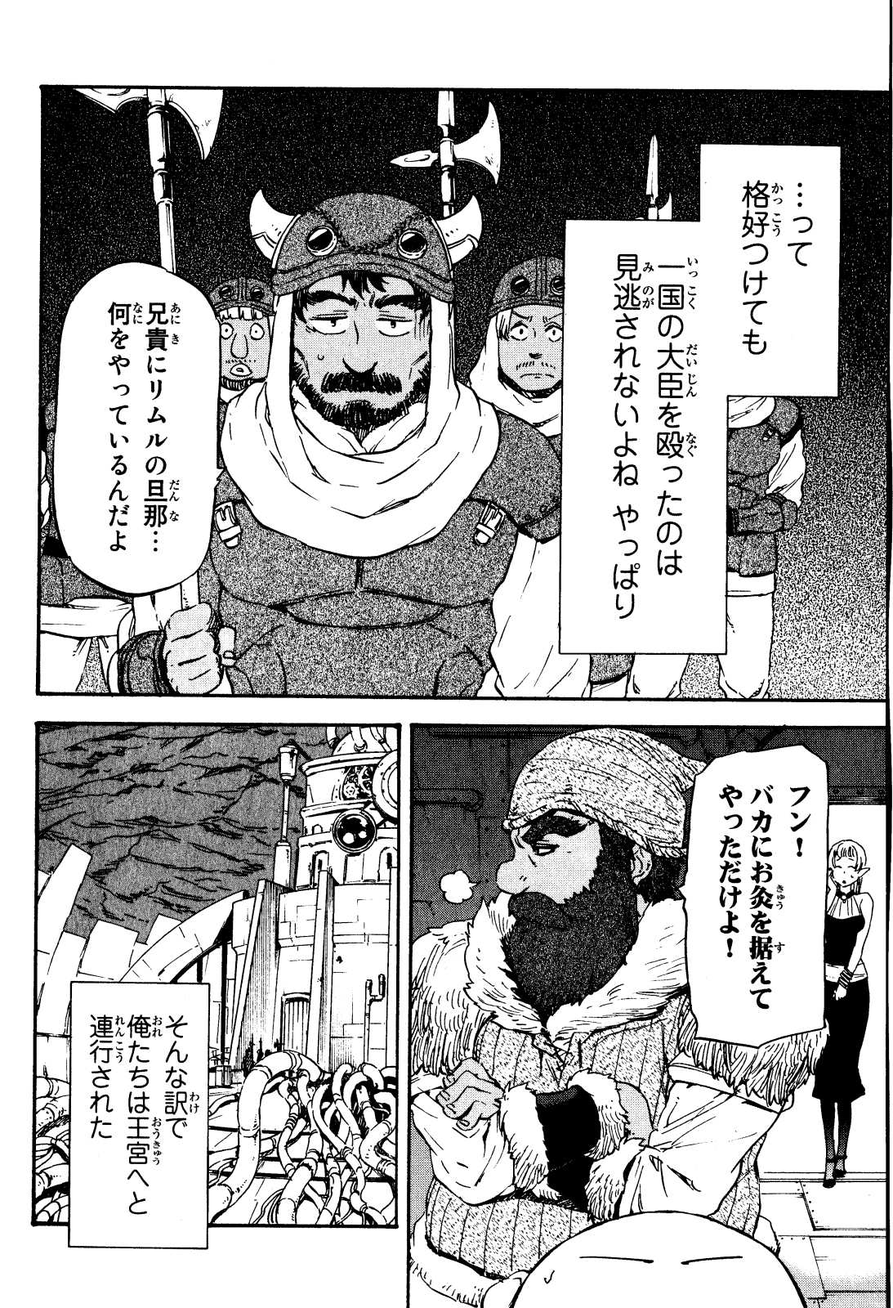bubbles: (551, 135, 846, 660), (50, 252, 222, 600), (675, 738, 842, 1055), (64, 974, 212, 1254)
